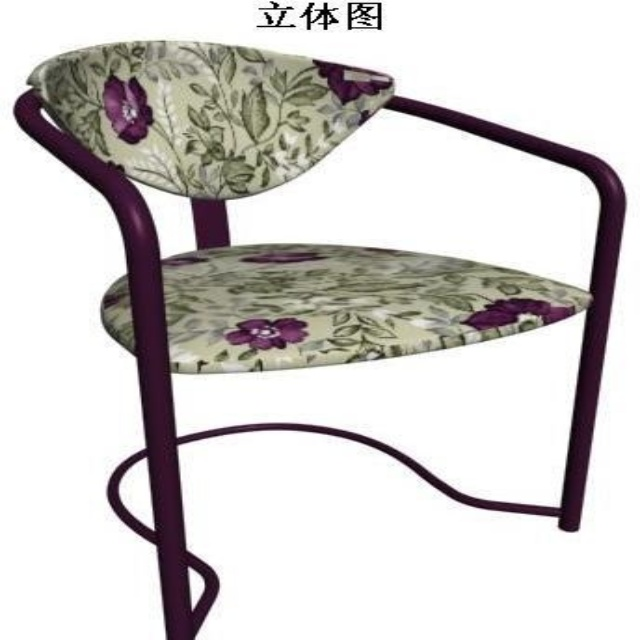obstacle: (15, 42, 623, 639)
